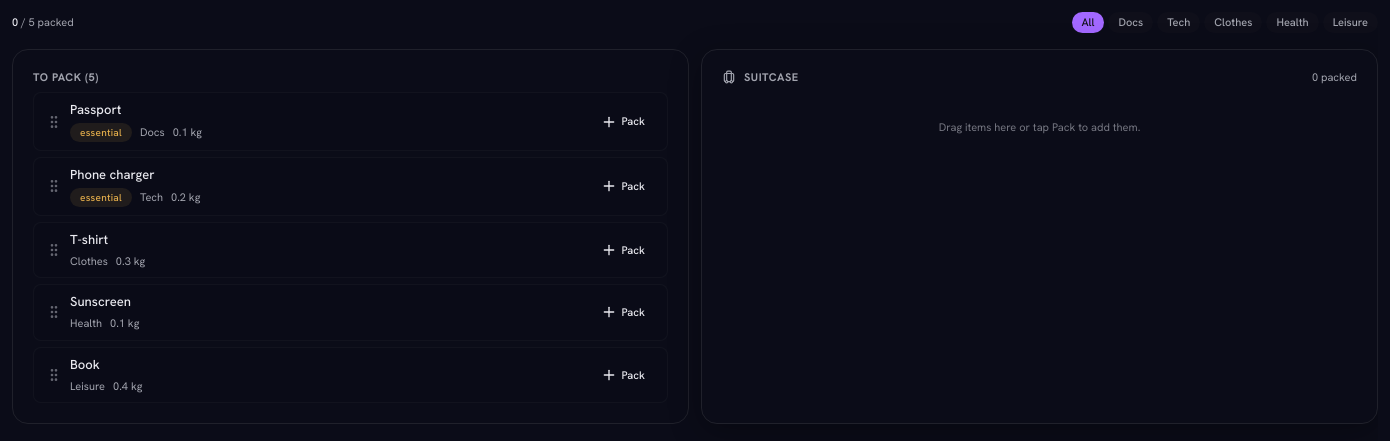
Test: PackingMission › should update the weight tally as items are packed
Expected: the text "0.7 kg" is not shown
Click the button with aria-label "Pack Book". click: (623, 375)
box: [591,359,655,391]
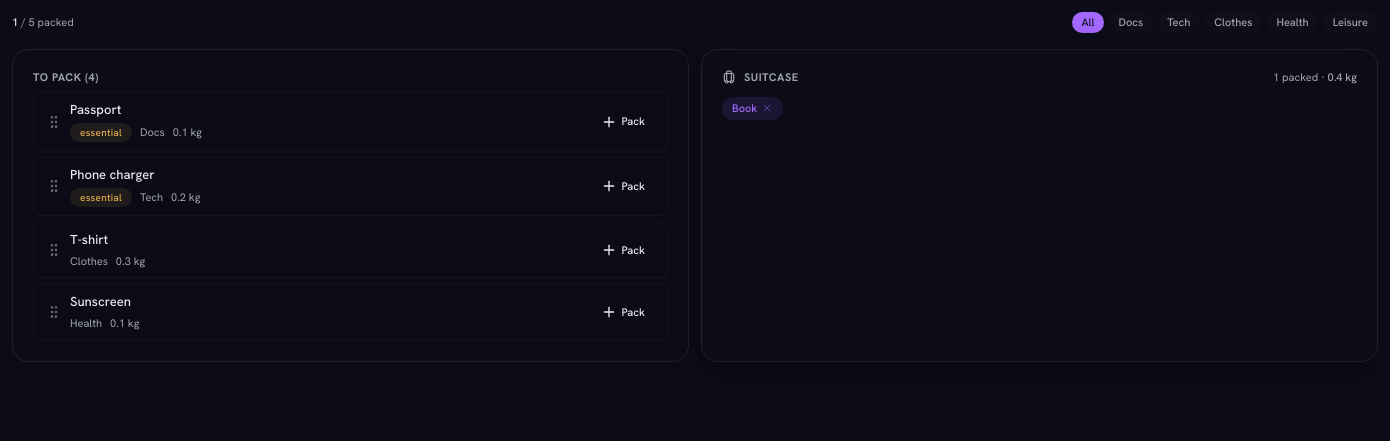
Expected: the text "0.4 kg" is shown, [1328,70,1357,84]
Click the button with aria-label "Pack T-shirt". click: (623, 250)
box: [591,234,655,266]
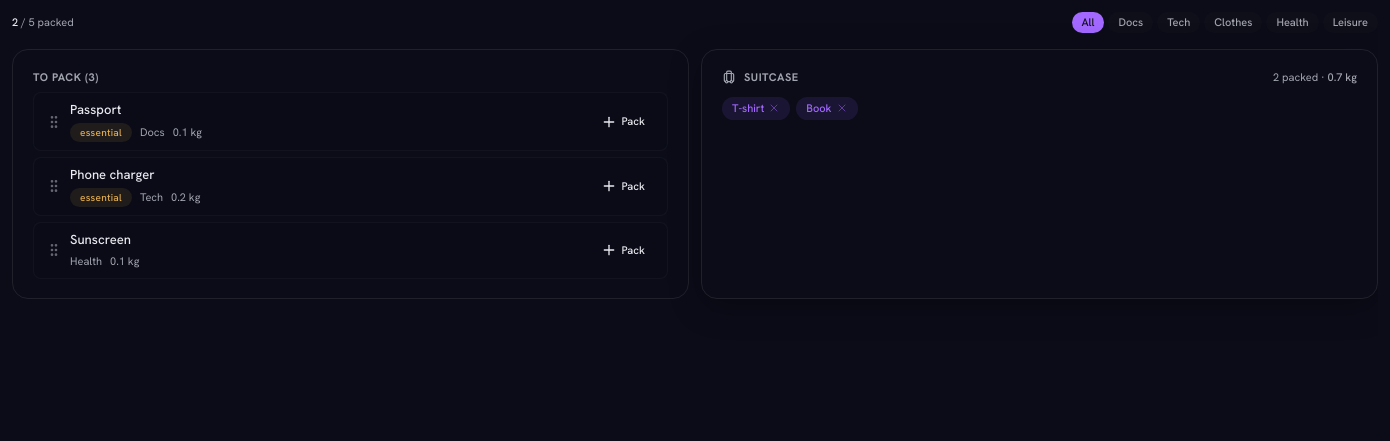
Now the text "0.7 kg" is shown, box [1328,70,1357,84]
